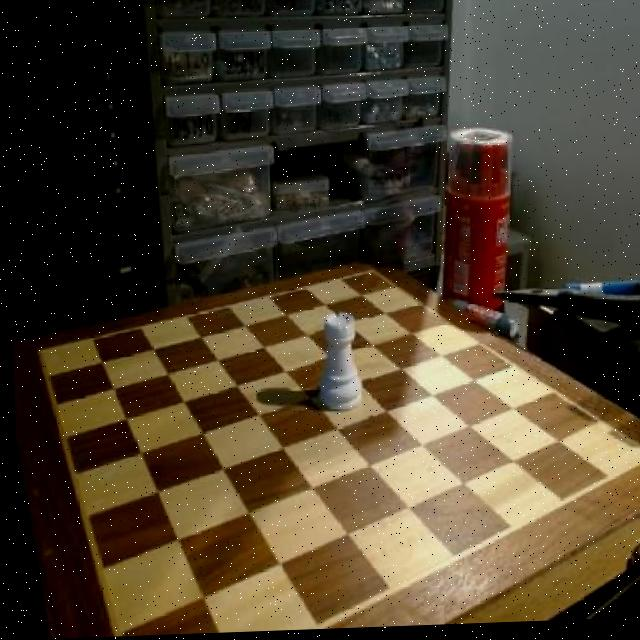white-queen: (313, 316, 370, 424)
